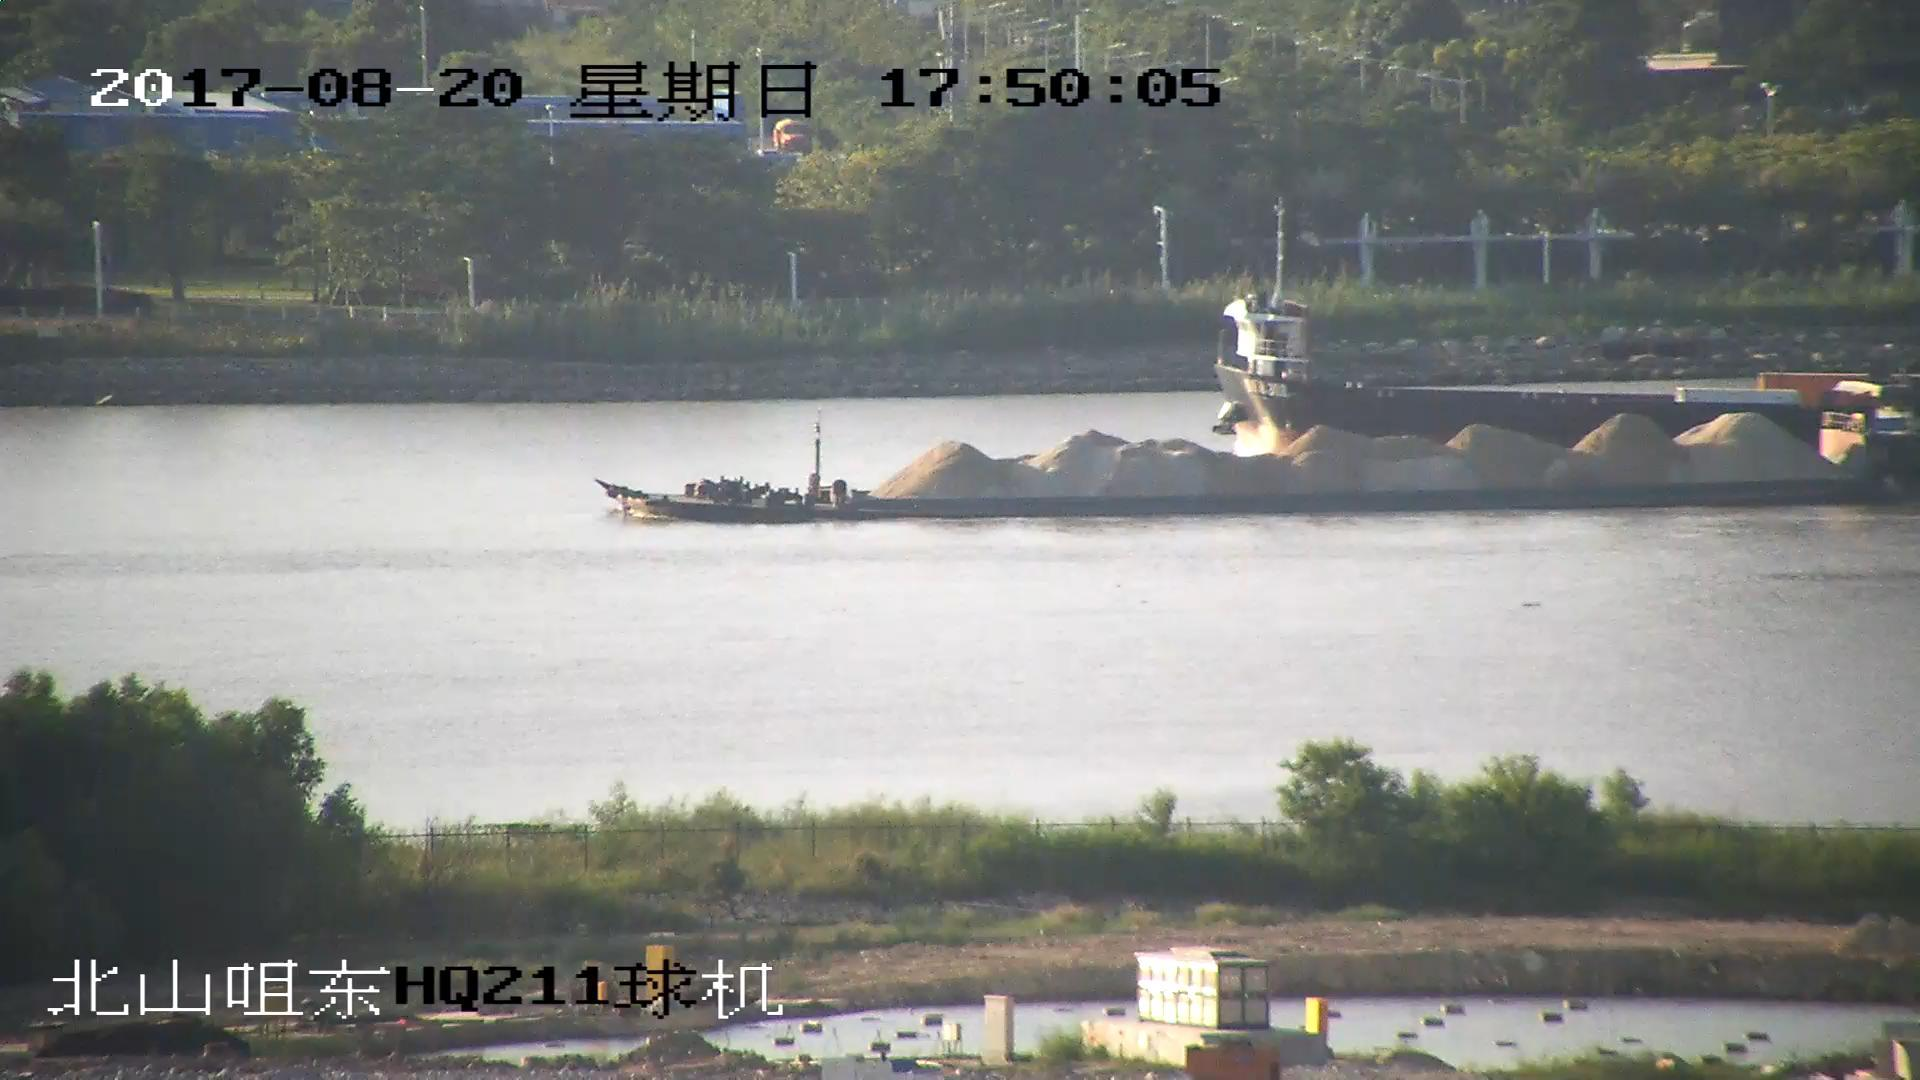Ship: (1207, 208, 1920, 454), (603, 394, 1920, 526)
